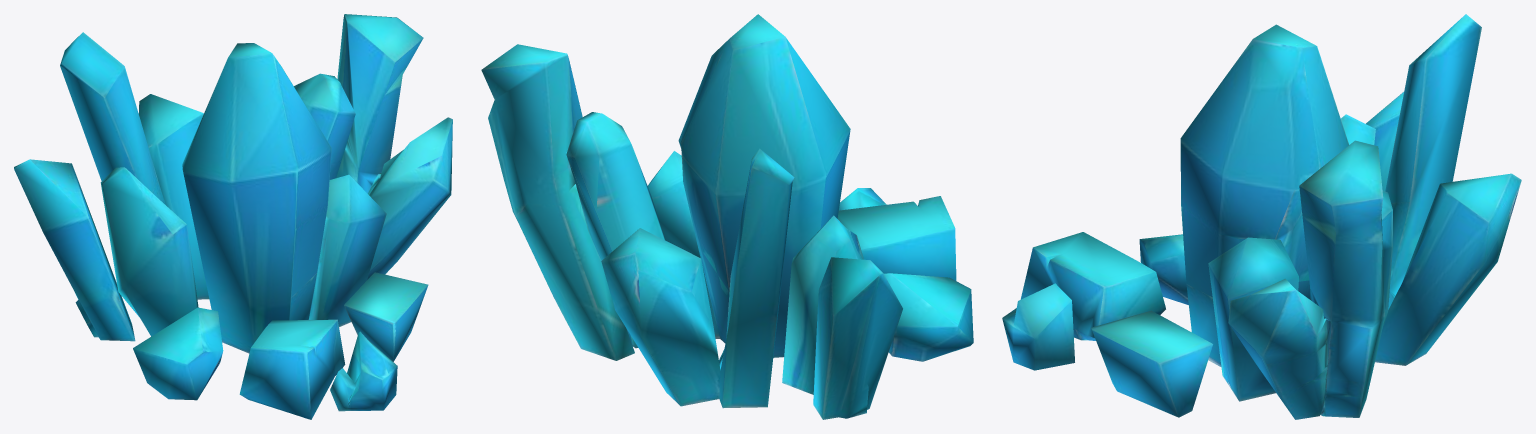
File: crystal-blue.glb
3 views of the same model, side by side, from view 1: azimuth 30°, elevation 25°; view 2: azimuth 150°, elevation 25°; view 3: azimuth 270°, elevation 25° (orthographic). The views are drawn at different scales.
Bounding box in the file's own units: 1.82 × 1.29 × 1.9.
Materials: 1 (1 with a texture image).
